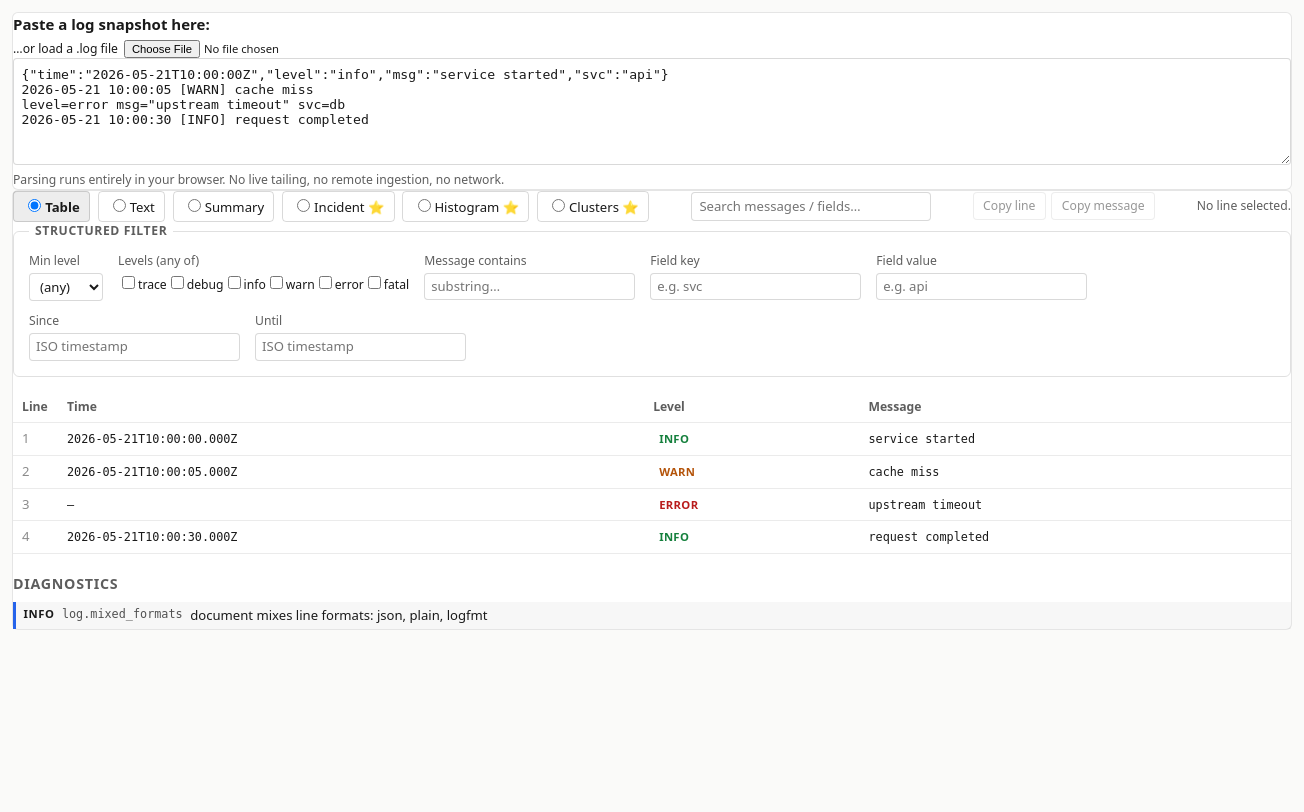
it: LogsApp integration › the structured filter narrows entries and reports a matched count
Select "warn" in the dropdown with test id "log-filter-minlevel": (66, 287) [29,273,103,301]
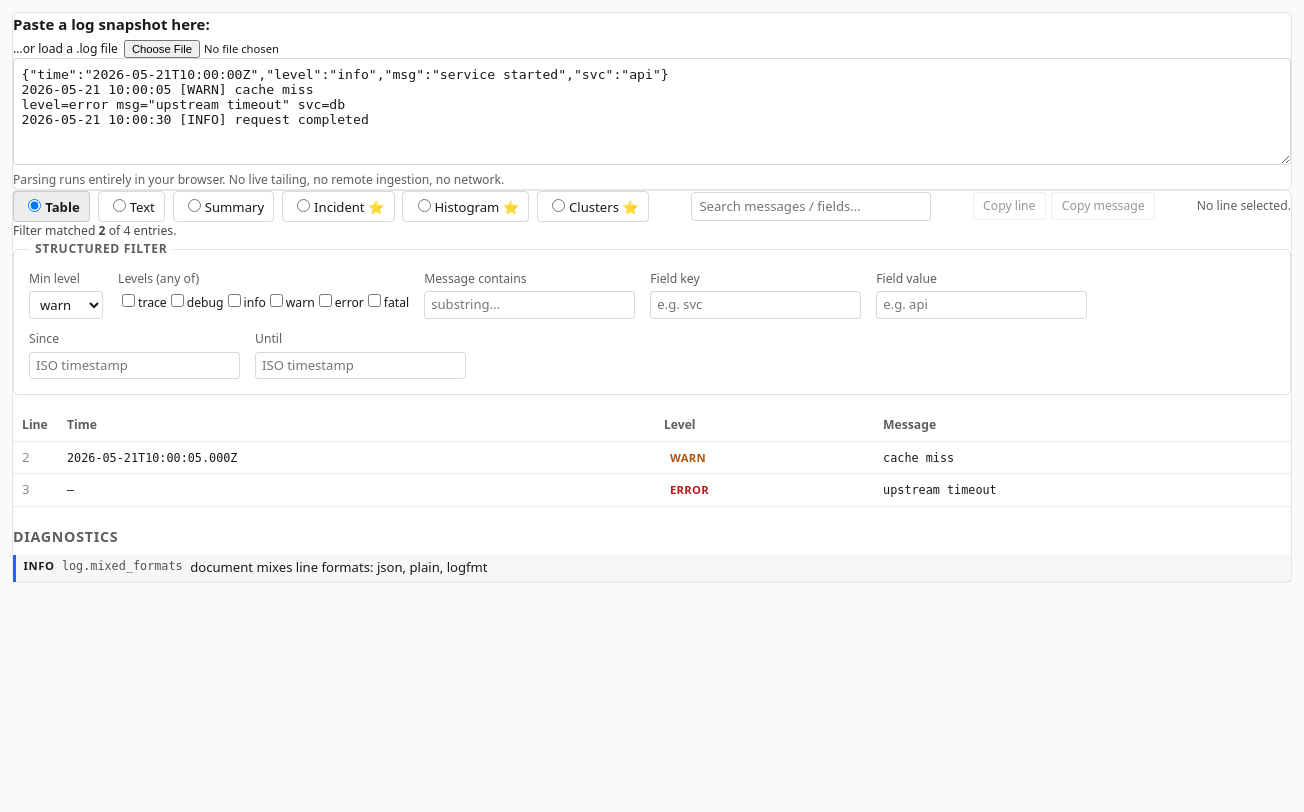
Check: the element with test id "logs-matched-count" reads "Filter matched 2 of 4 entries.", box [13,222,176,239]
